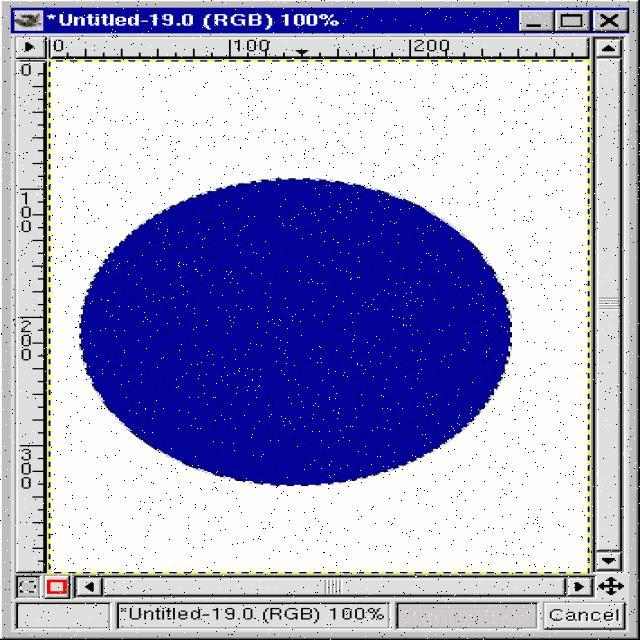Circle: (74, 172, 535, 500)
